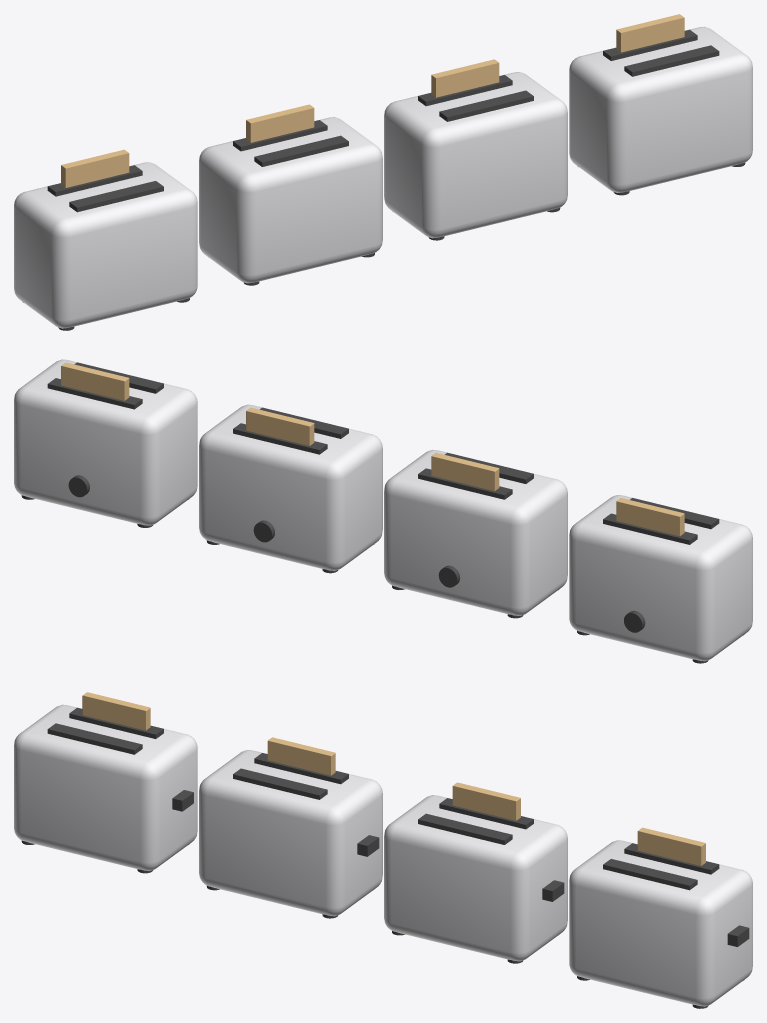
The model's file is stock_toasters_row.glb.
The picture shows the model from 3 angles, top to bottom: view 1: azimuth 30°, elevation 25°; view 2: azimuth 150°, elevation 25°; view 3: azimuth 330°, elevation 25°; orthographic projection.
Visible parts, largest first — view 1: Toaster, Toaster.001, Toaster.002, Toaster.003; view 2: Toaster.002, Toaster.003, Toaster, Toaster.001; view 3: Toaster.003, Toaster, Toaster.001, Toaster.002.
Part boxes in pixels (left/top/right/bottom): Toaster: left=14, top=149, right=197, bottom=330; Toaster.001: left=199, top=104, right=382, bottom=285; Toaster.002: left=384, top=59, right=567, bottom=240; Toaster.003: left=569, top=14, right=752, bottom=195; Toaster.002: left=199, top=404, right=382, bottom=573; Toaster.003: left=14, top=359, right=197, bottom=527; Toaster: left=569, top=495, right=752, bottom=663; Toaster.001: left=384, top=449, right=567, bottom=618; Toaster.003: left=569, top=827, right=752, bottom=1008; Toaster: left=14, top=692, right=197, bottom=873; Toaster.001: left=199, top=737, right=382, bottom=918; Toaster.002: left=384, top=782, right=567, bottom=963.
Bounding box in the file's own units: 1.23 × 0.22 × 0.159.
